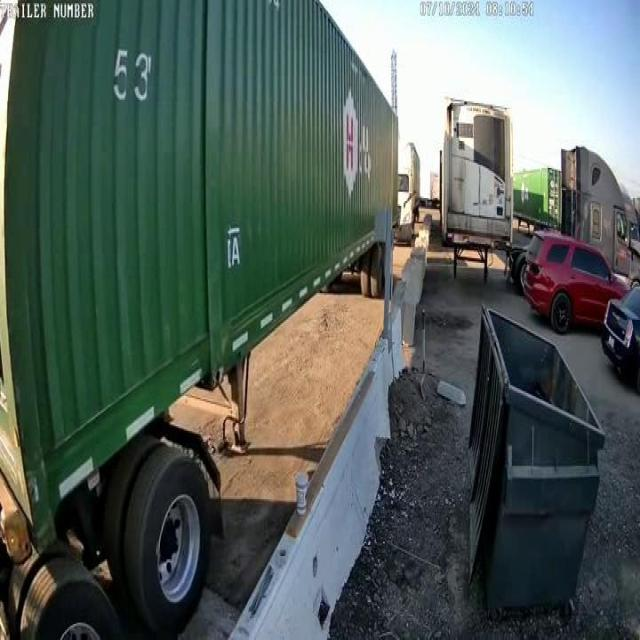TRUCK_OUT: (3, 0, 393, 640), (392, 139, 424, 250)
